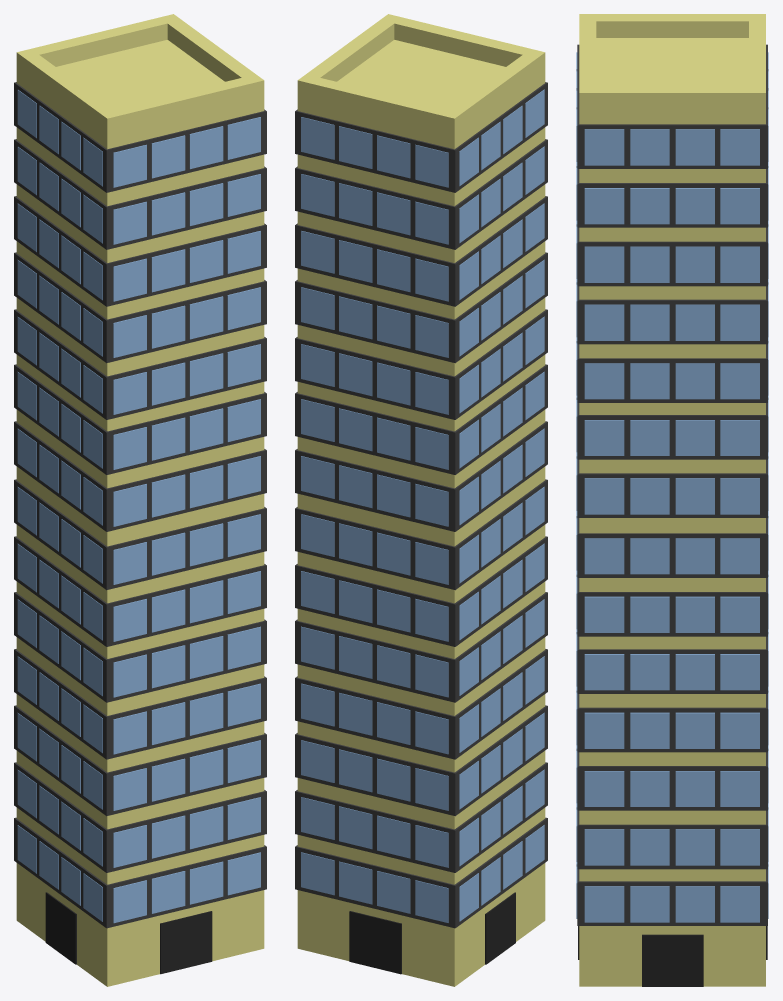
File: tower3.fbx
3 renders of one model, left to right at view 1: azimuth 30°, elevation 25°; view 2: azimuth 150°, elevation 25°; view 3: azimuth 270°, elevation 25°, orthographic. The views are drawn at different scales.
Parts seen in each view (by area): view 1: Cube.016, Cube; view 2: Cube.016, Cube; view 3: Cube.016, Cube.
Part boxes in pixels (bbox=[...]): Cube.016: bbox=[14, 82, 266, 974]; Cube: bbox=[16, 14, 264, 986]; Cube.016: bbox=[295, 82, 547, 974]; Cube: bbox=[297, 14, 545, 986]; Cube.016: bbox=[576, 44, 768, 986]; Cube: bbox=[579, 14, 765, 986].
Size of the model in its own units: 372 by 1907 by 372.
